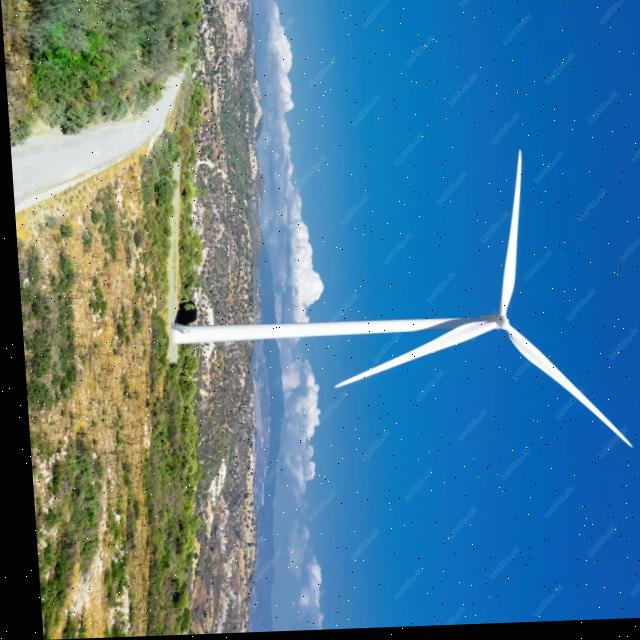solid-blade: (501, 330, 614, 443), (330, 324, 492, 390), (494, 155, 519, 320)
